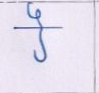ai_matra: (26, 3, 46, 26)
